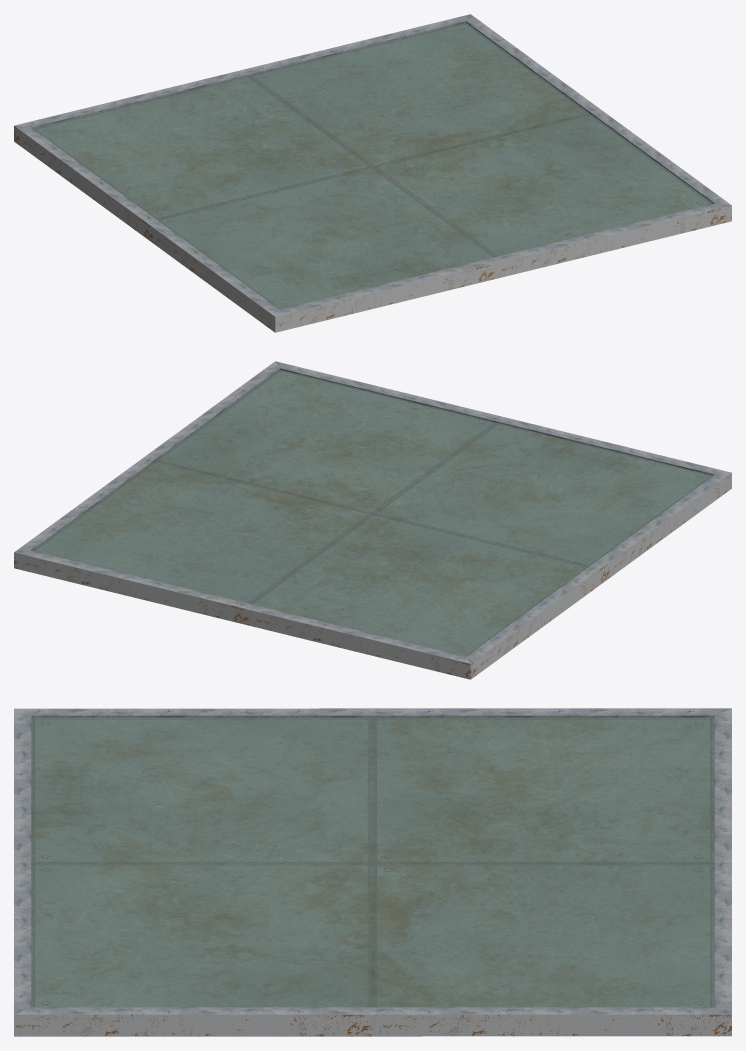
The model's file is Ob_Tile_RC.fbx.
3 renders of one model, top to bottom at view 1: azimuth 30°, elevation 25°; view 2: azimuth 150°, elevation 25°; view 3: azimuth 270°, elevation 25°, orthographic. The views are drawn at different scales.
Parts seen in each view (by area): view 1: Ob_Tile_RC; view 2: Ob_Tile_RC; view 3: Ob_Tile_RC.
Part boxes in pixels (<box>): Ob_Tile_RC: <box>14,14,731,332</box>; Ob_Tile_RC: <box>14,361,731,679</box>; Ob_Tile_RC: <box>14,708,731,1036</box>.
Bounding box in the file's own units: 1824 × 61.03 × 1807.
